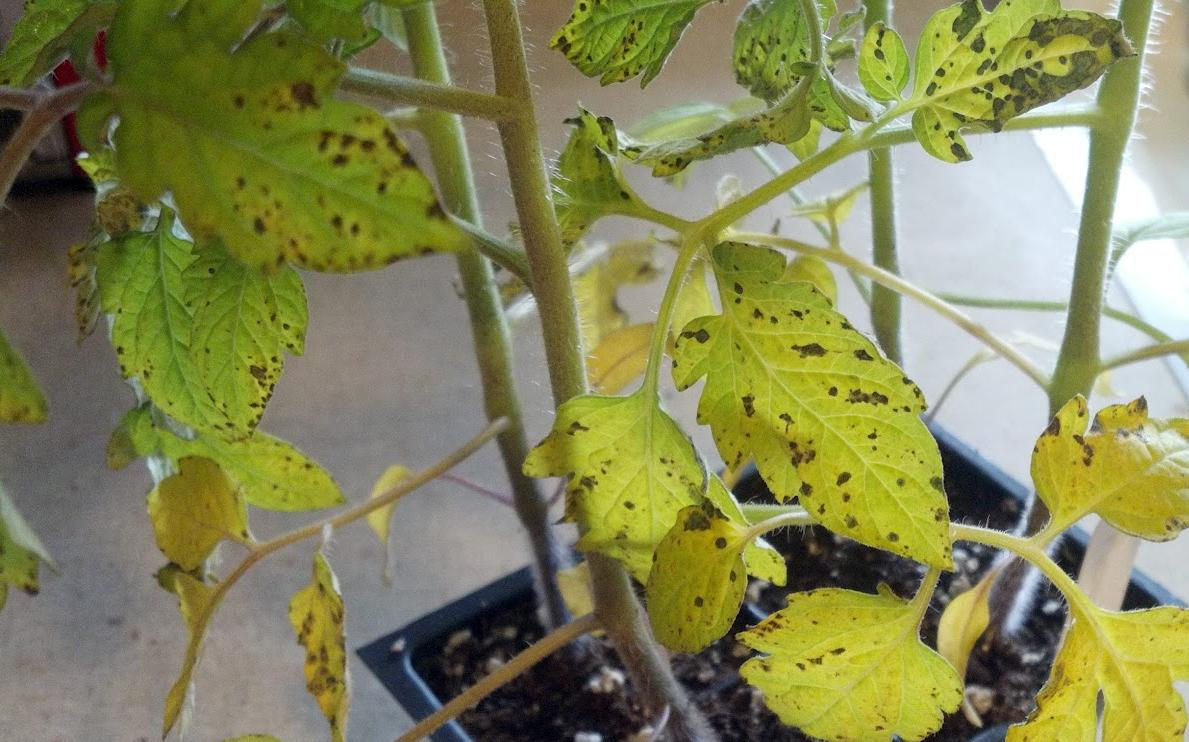Tomato Septoria leaf spot: (77, 0, 481, 279), (685, 235, 971, 591), (19, 206, 339, 448), (500, 375, 714, 581), (730, 564, 971, 742), (900, 0, 1138, 176), (537, 0, 764, 76)
